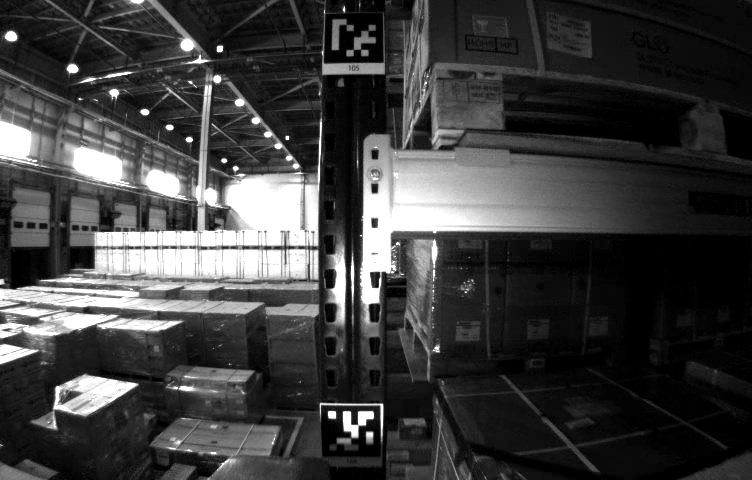True Barcode: (542, 7, 596, 63)
